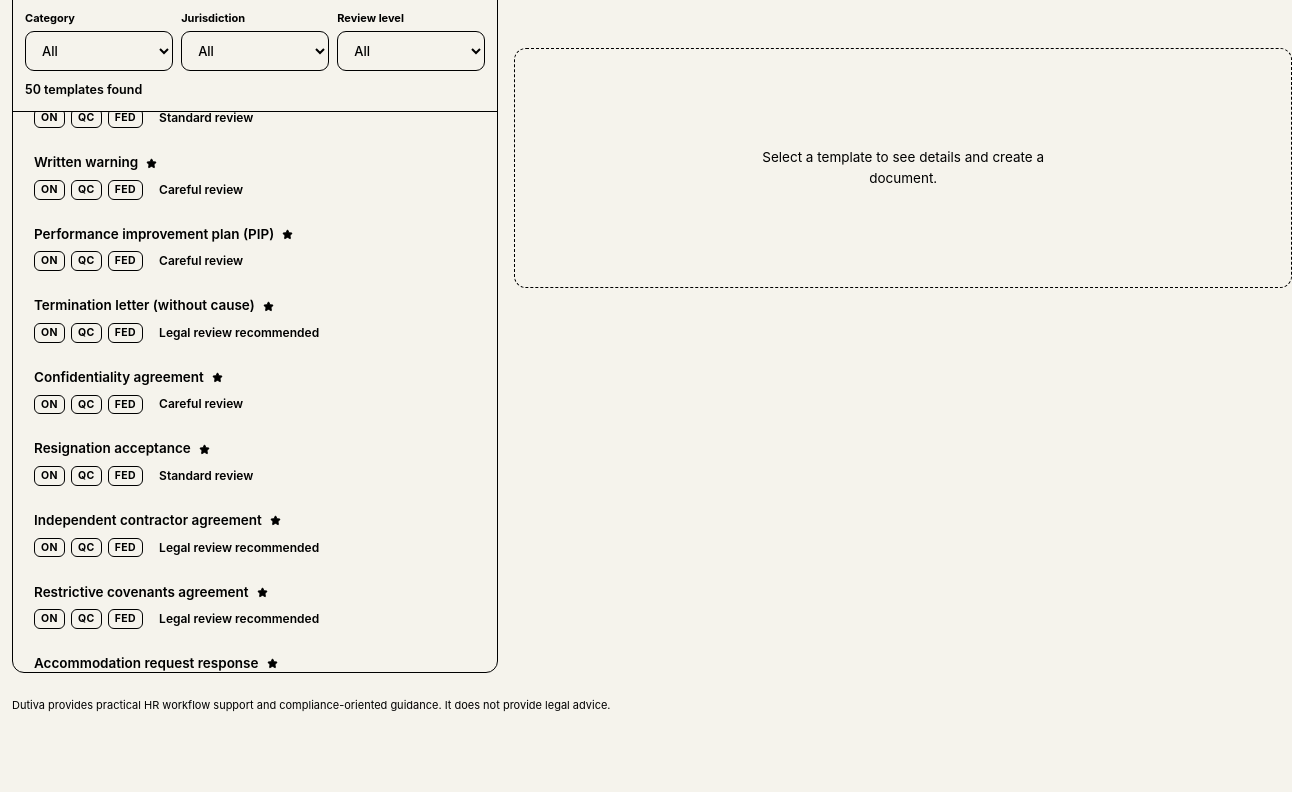
Scenario: StudioScreen › reselects deterministically when filters remove the current template
The image size is (1292, 792).
(page scrolled)
Click the option "Confidentiality agreement ON QC FED Careful review" at (119, 377), box [21, 358, 489, 427]
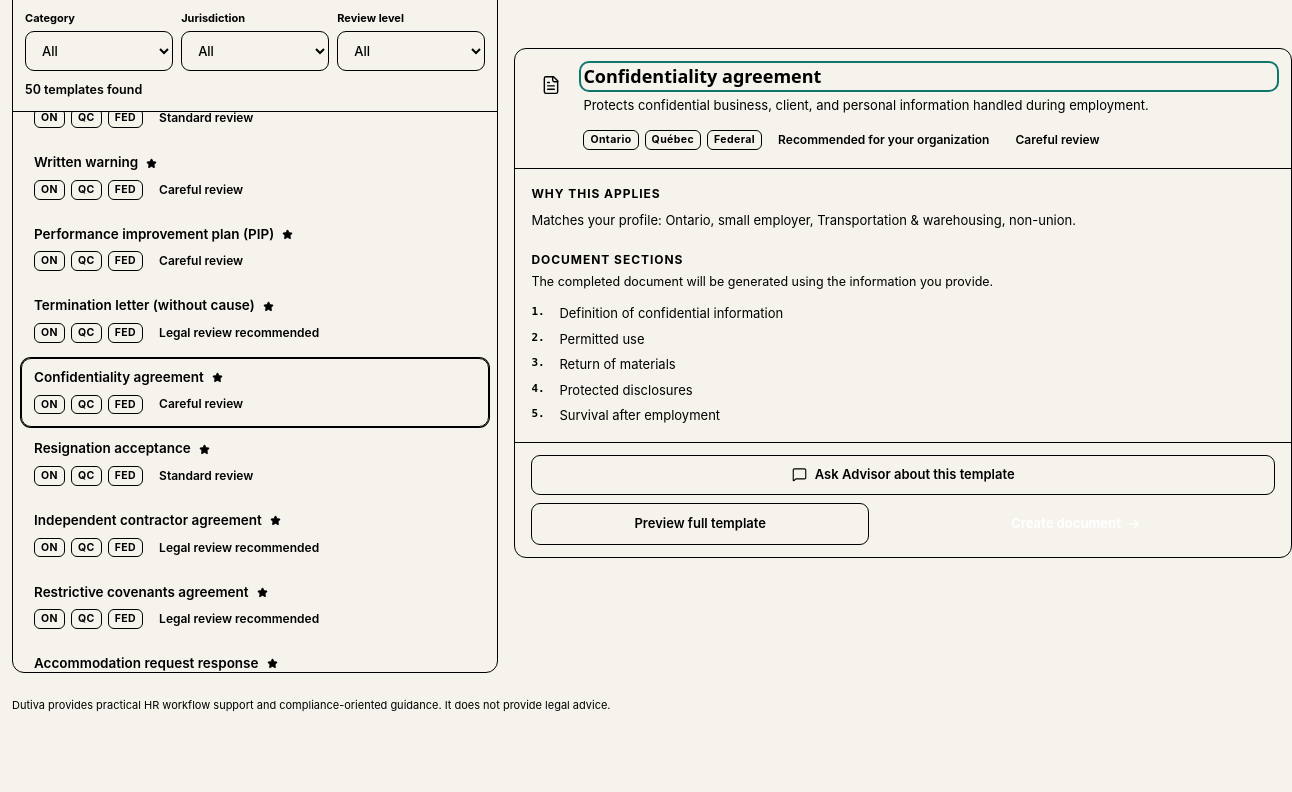
expect the element "Confidentiality agreement" is shown: met, box [514, 48, 1291, 558]
Select "Hiring & onboarding" in the dropdown labelled "Category" at (99, 51), box [25, 31, 173, 71]
(page scrolled)
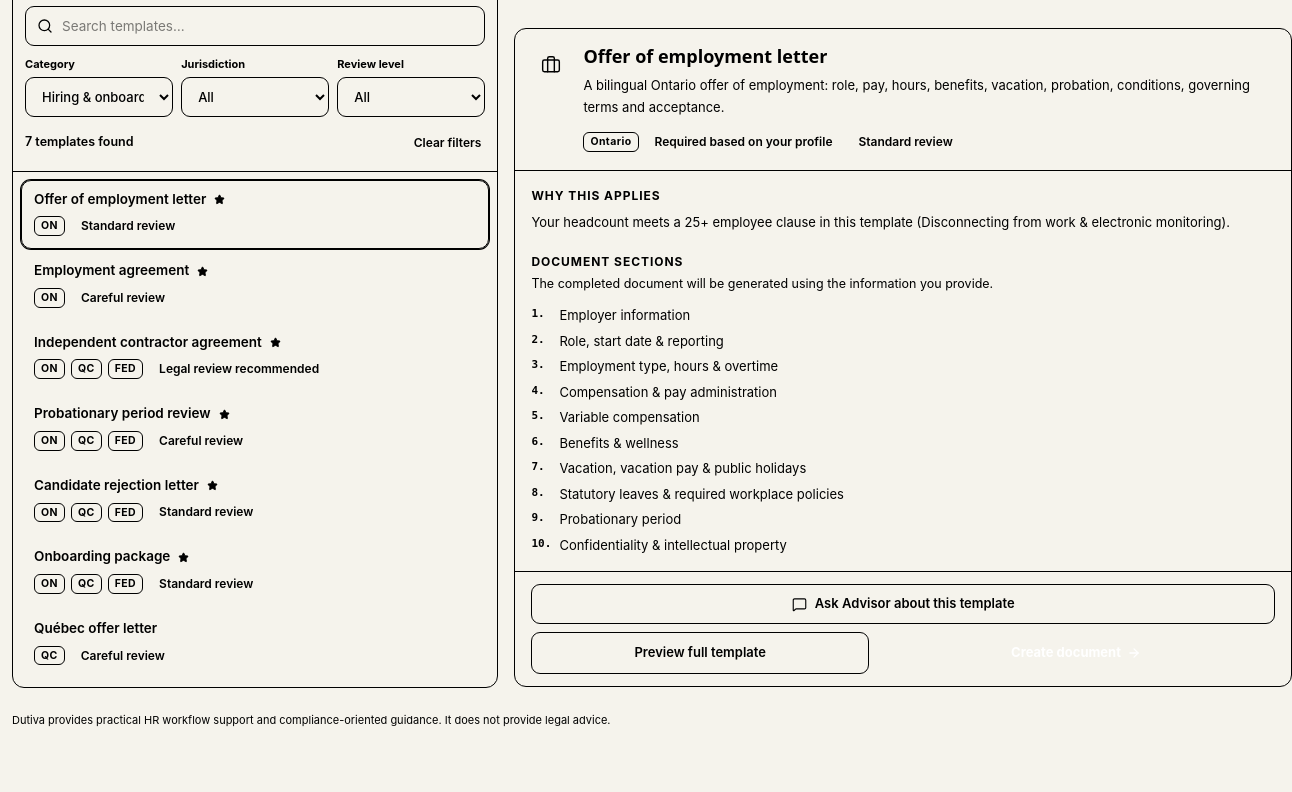
expect the option "Offer of employment letter ON Standard review" is shown: met, box [21, 180, 489, 249]
expect the option "Confidentiality agreement" is gone: met
